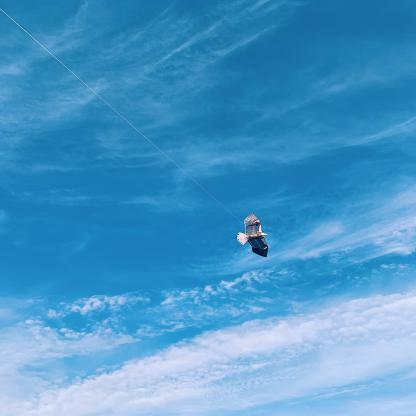bird: (237, 213, 268, 257)
